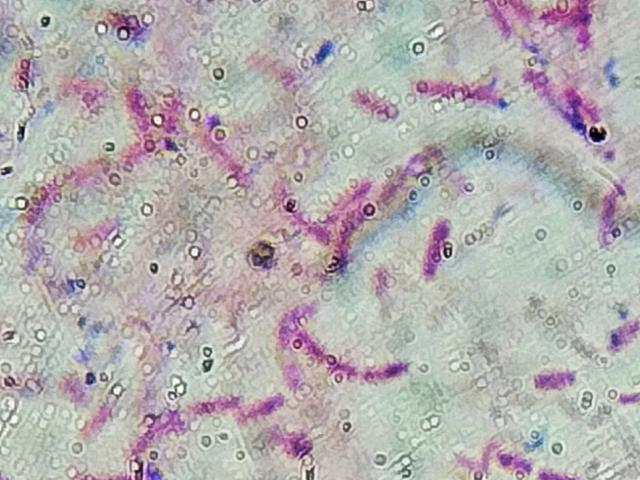E. coli: (26, 154, 104, 203), (419, 73, 494, 110), (422, 215, 454, 280), (199, 133, 239, 182), (356, 360, 414, 390), (185, 387, 236, 419), (139, 413, 178, 454), (598, 187, 625, 246), (545, 5, 590, 40), (516, 67, 549, 112), (351, 86, 402, 115), (386, 159, 421, 201), (311, 330, 346, 371), (528, 365, 577, 394), (286, 197, 317, 241), (325, 176, 367, 207), (276, 300, 321, 328), (608, 306, 636, 351), (333, 216, 357, 267), (278, 332, 301, 385), (82, 405, 120, 437), (561, 82, 589, 122), (121, 90, 150, 128), (239, 395, 287, 417), (279, 422, 307, 455), (122, 136, 162, 158), (12, 55, 34, 95), (105, 15, 142, 38), (533, 463, 582, 480), (495, 446, 527, 470), (65, 365, 91, 393), (491, 0, 508, 39), (616, 381, 640, 406)
